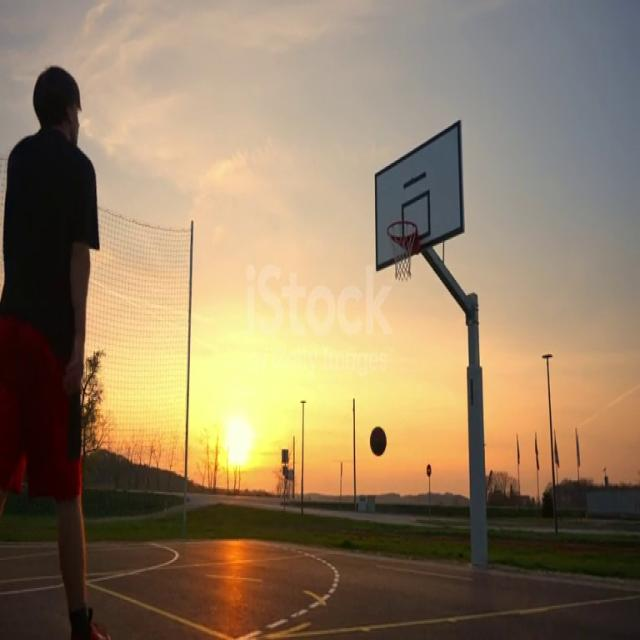ball: (369, 425, 388, 458)
